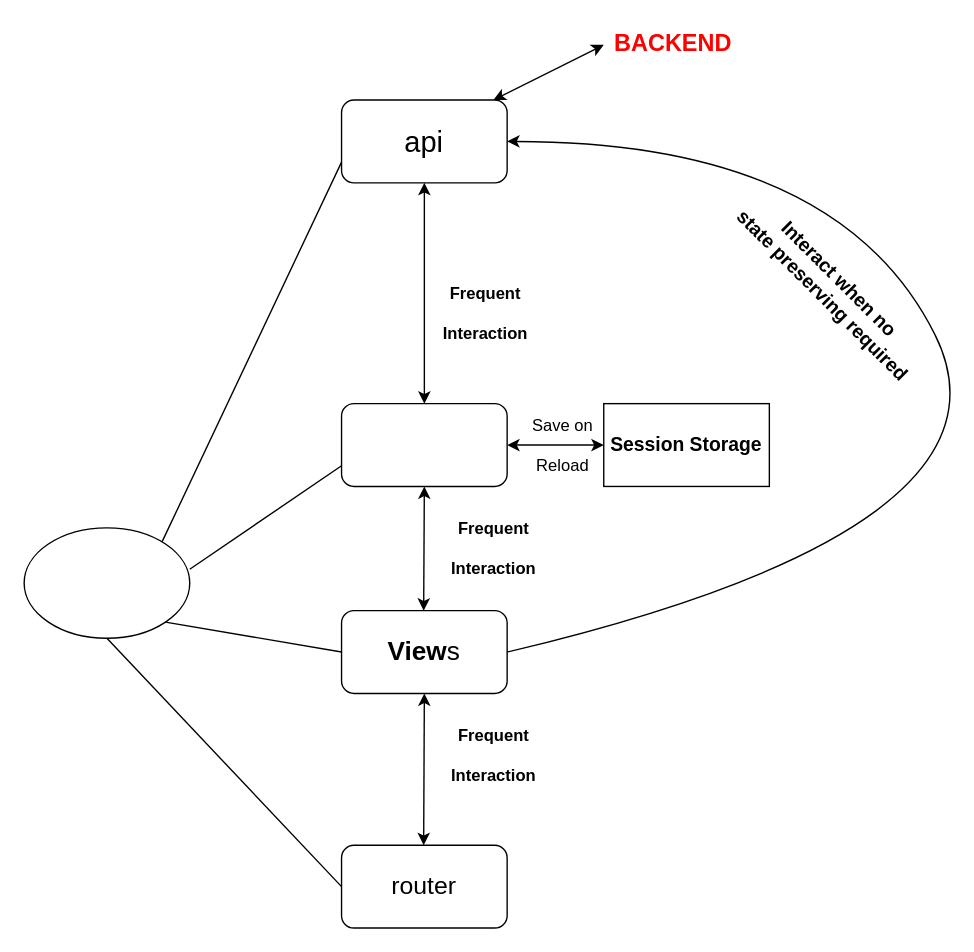
Image size: 974x952. Some labels were removed from this diagram. Here are the shapes that lost their labels. From the top down, the centre of each, then its label:
point 423,444: store (supported by Vuex)
point 106,582: From-Form Vue App
